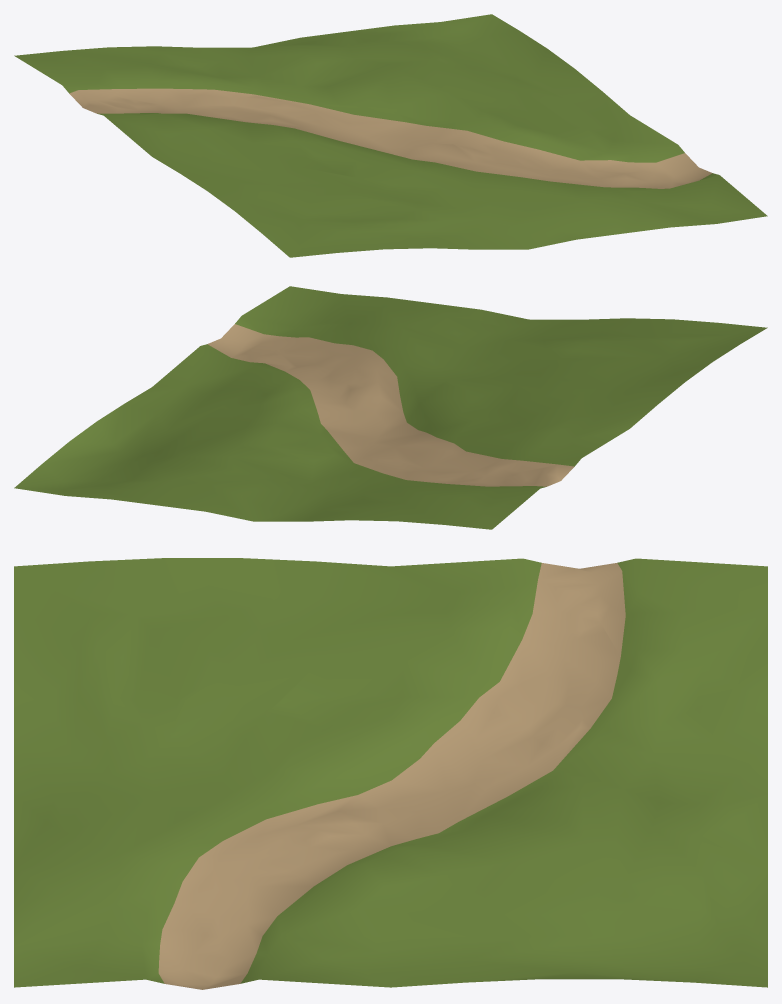
File: rpgpp_ag_terrain_path_07_20x20m_slope_2-1m.fbx
3 views of the same model, one above another, from view 1: azimuth 30°, elevation 25°; view 2: azimuth 150°, elevation 25°; view 3: azimuth 270°, elevation 25° (orthographic). The views are drawn at different scales.
Parts seen in each view (by area): view 1: rpgpp_ag_terrain_path_07_20x20m_slope_2-1m; view 2: rpgpp_ag_terrain_path_07_20x20m_slope_2-1m; view 3: rpgpp_ag_terrain_path_07_20x20m_slope_2-1m.
Boxes of the visible parts, box(x1,y1,x2,y2) form: rpgpp_ag_terrain_path_07_20x20m_slope_2-1m: box(14, 14, 767, 257); rpgpp_ag_terrain_path_07_20x20m_slope_2-1m: box(14, 286, 767, 529); rpgpp_ag_terrain_path_07_20x20m_slope_2-1m: box(14, 558, 767, 989).
Bounding box in the file's own units: 20 × 3.56 × 20.
